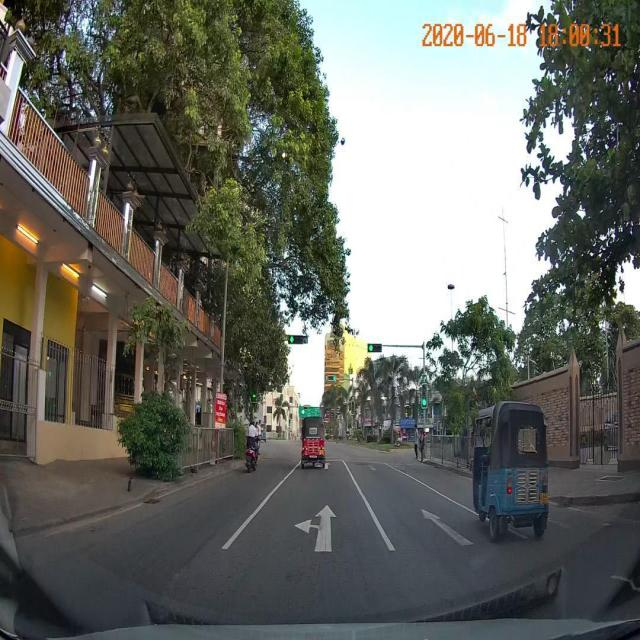Liniya 1: (220, 460, 302, 550), (342, 459, 396, 551), (385, 464, 478, 516)
Strelka vpered: (420, 507, 476, 548)
Strelka vpered - vlevo: (293, 502, 339, 551), (315, 462, 331, 469)
